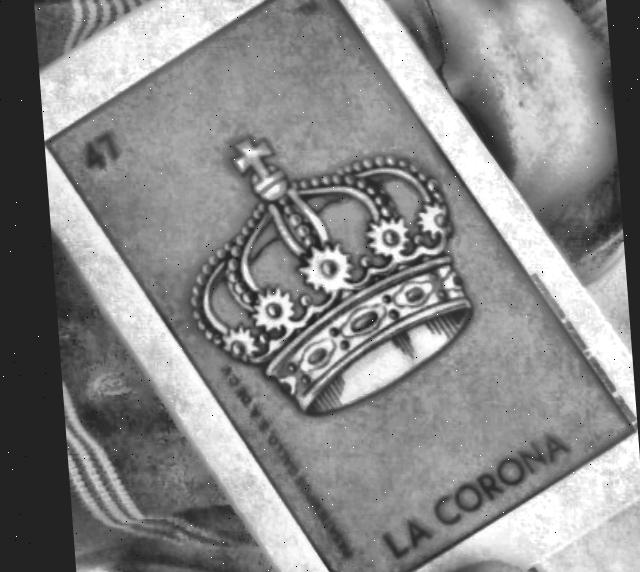La Corona: (45, 0, 626, 572)
